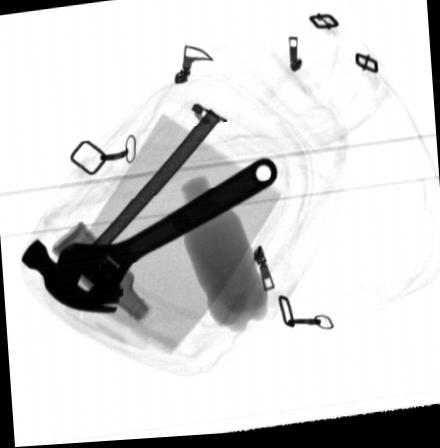Hammer: (21, 111, 222, 314)
Wrench: (56, 161, 279, 302)
